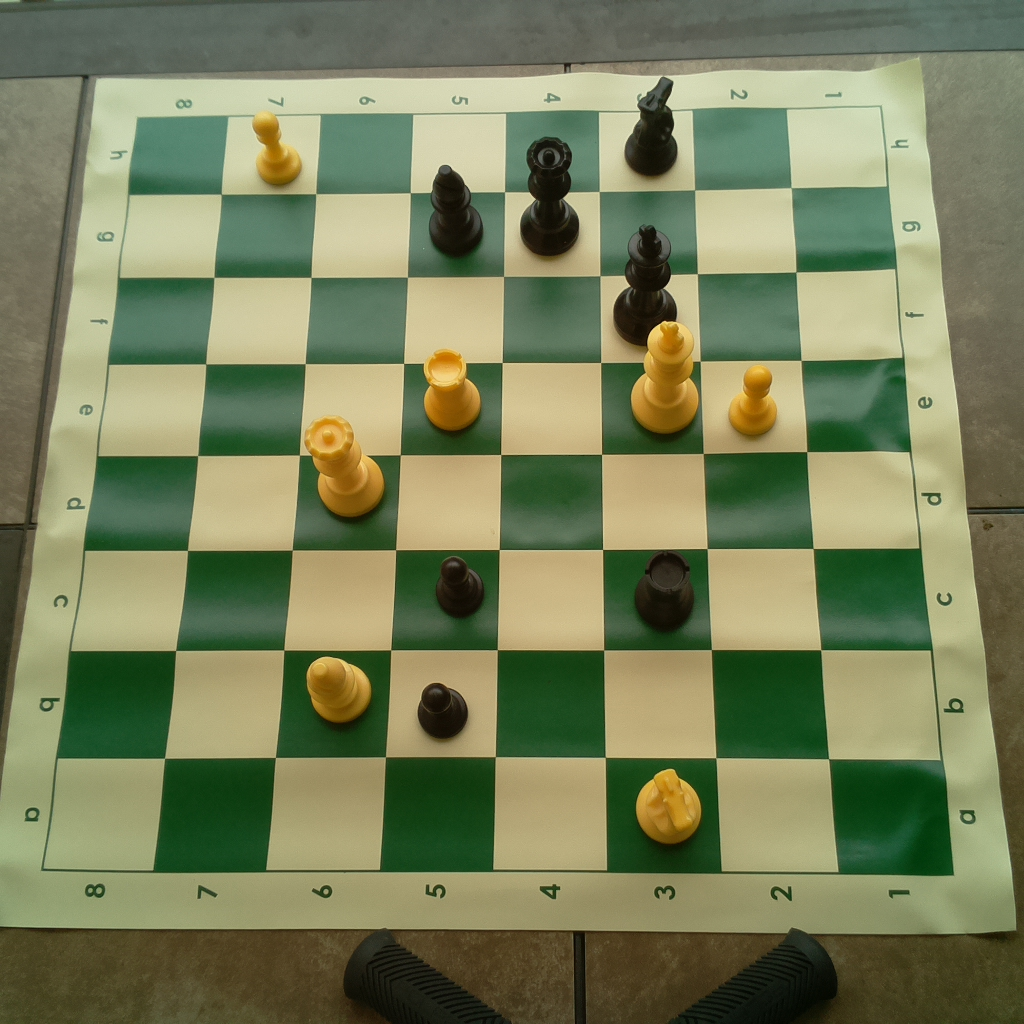black_bishop: (421, 160, 488, 257)
black_king: (612, 221, 681, 348)
black_knight: (619, 73, 684, 178)
black_pawn: (414, 674, 473, 743), (431, 551, 489, 621)
black_queen: (515, 134, 585, 257)
black_rook: (628, 547, 701, 632)
file_a: (40, 758, 954, 873)
file_b: (53, 654, 944, 758)
file_c: (70, 551, 932, 652)
file_d: (84, 452, 918, 548)
file_e: (97, 356, 910, 451)
file_f: (108, 269, 905, 358)
file_g: (119, 187, 896, 277)
file_h: (131, 105, 890, 193)
outline: (42, 108, 954, 874)
rank_1: (789, 104, 953, 874)
rank_2: (694, 108, 838, 870)
rank_3: (599, 106, 724, 874)
rank_4: (492, 110, 605, 870)
rank_5: (380, 115, 508, 871)
rank_6: (263, 115, 415, 874)
rank_7: (155, 114, 319, 871)
rank_8: (41, 115, 229, 873)
white_bishop: (303, 654, 373, 727)
white_king: (628, 315, 702, 440)
white_knight: (629, 761, 710, 853)
white_pawn: (246, 110, 306, 186), (727, 365, 780, 440)
white_queen: (296, 410, 390, 519)
white_rook: (418, 345, 484, 436)
